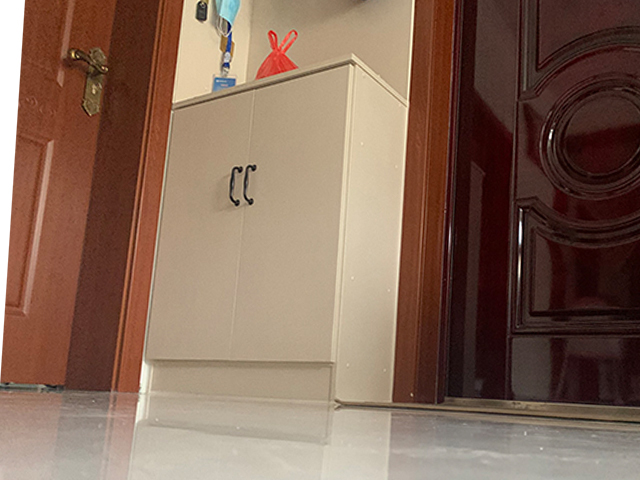cabinet: (144, 51, 409, 404)
carpet: (335, 397, 640, 426)
